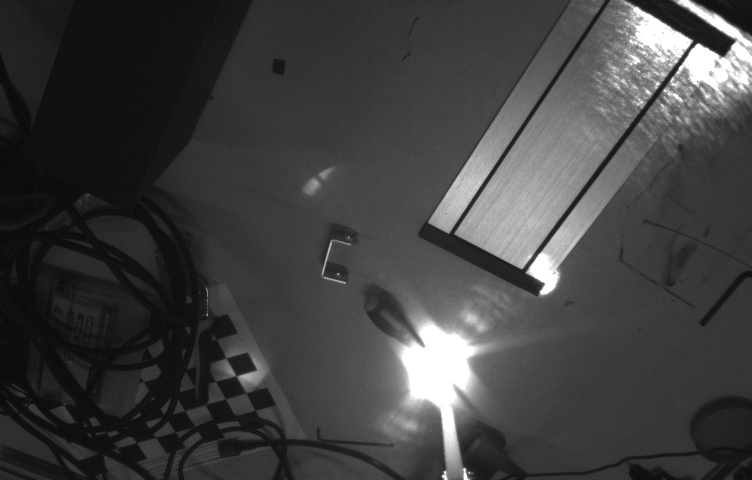Object precision screwdriver - Material Metal - Pdfname NoEr35VbQ7sR: (411, 344, 445, 383)
